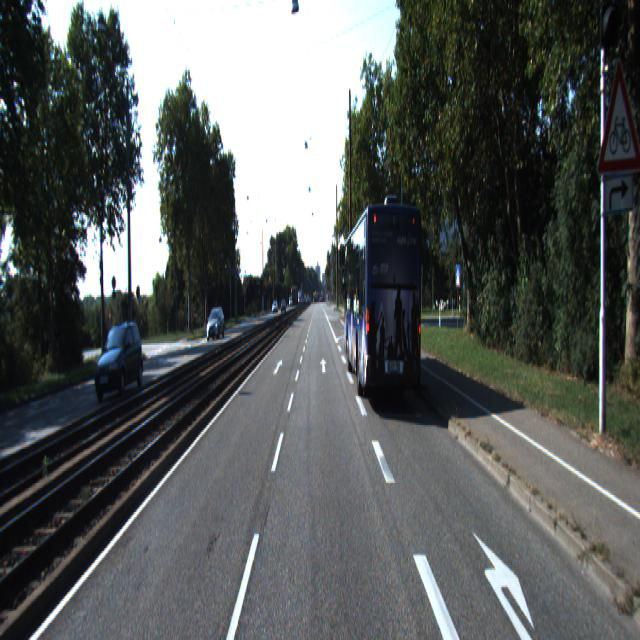Car: (344, 202, 425, 416), (94, 322, 146, 402), (206, 306, 226, 340)
